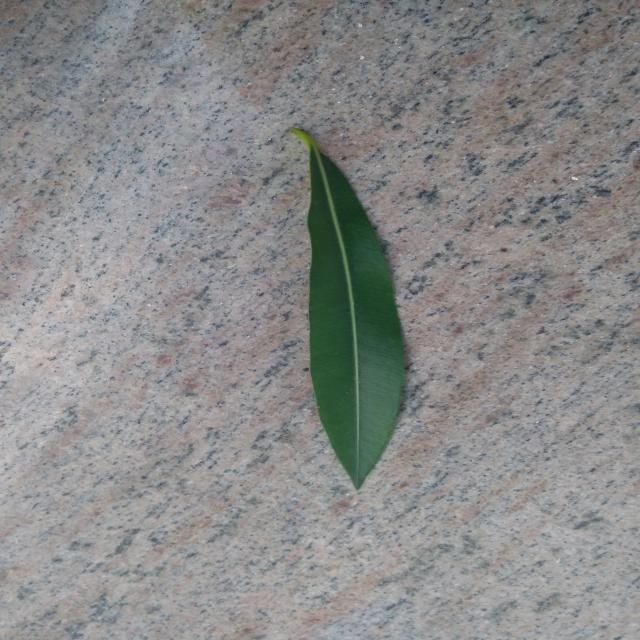ganigale: (291, 128, 404, 489)
